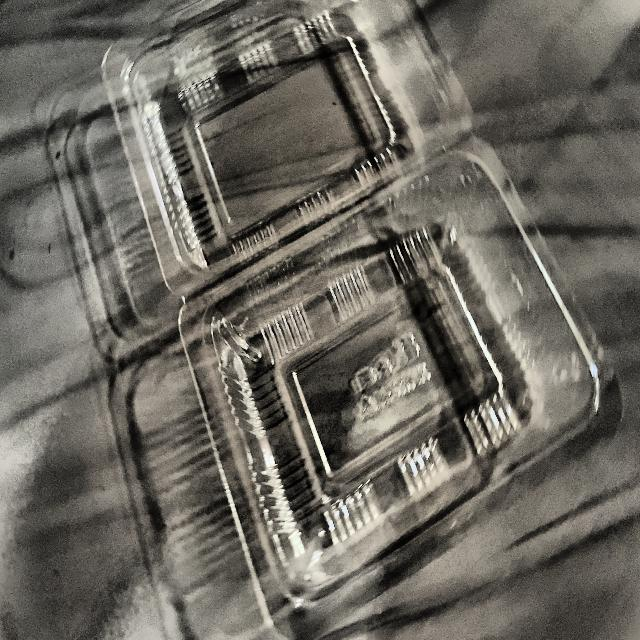plastic container: (140, 18, 585, 582)
